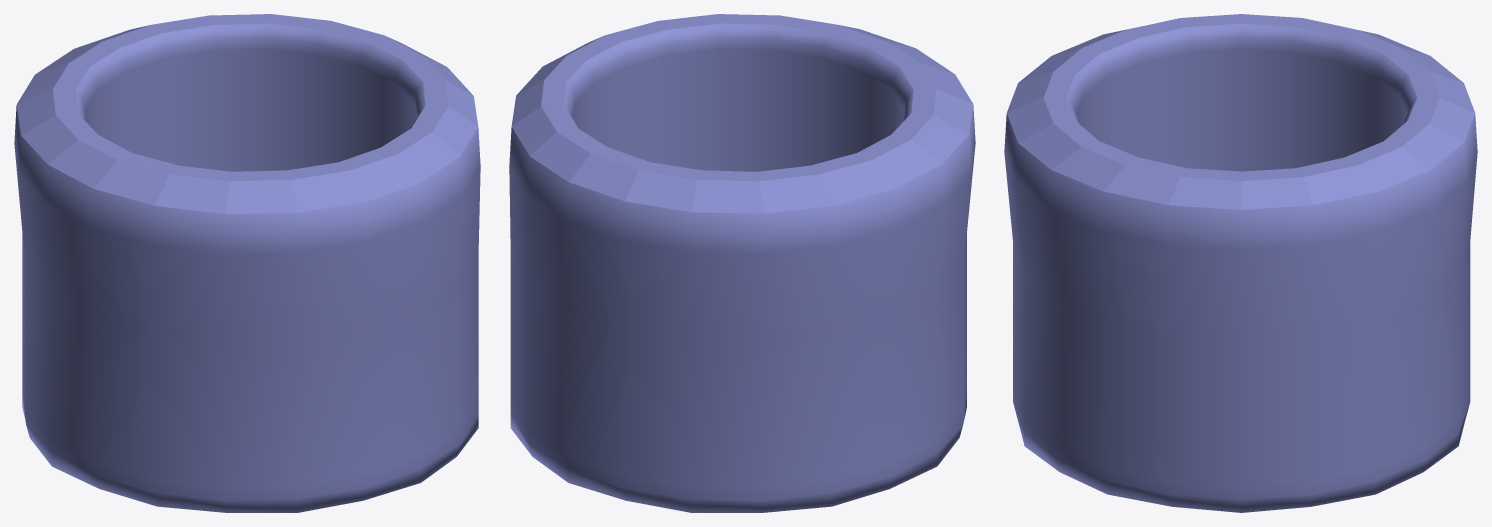
The model's file is Planter.fbx.
3 renders of one model, left to right at view 1: azimuth 30°, elevation 25°; view 2: azimuth 150°, elevation 25°; view 3: azimuth 270°, elevation 25°, orthographic.
Parts seen in each view (by area): view 1: StonePot; view 2: StonePot; view 3: StonePot.
Part boxes in pixels (bbox=[...]): StonePot: bbox=[14, 14, 480, 512]; StonePot: bbox=[509, 14, 975, 512]; StonePot: bbox=[1004, 14, 1477, 512].
Size of the model in its own units: 18.32 by 13.9 by 18.69.
